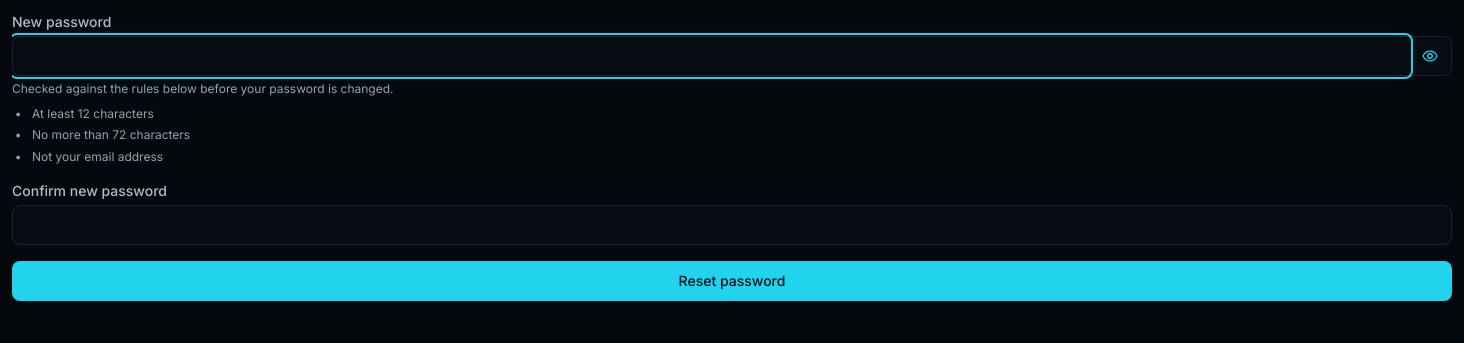
Test: a password the rules refuse › names the rule, and the existing password stays in force
Step 1. Type "short" into the password field labelled "New password" → (711, 56), box [13,37,1409,75]
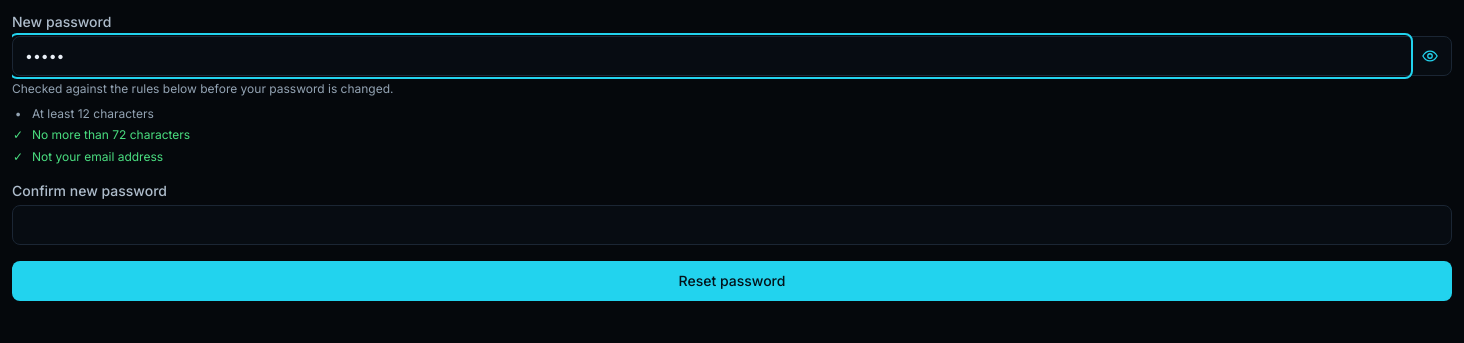
Step 2. Type "short" into the password field labelled "Confirm new password" → (732, 225), box [12,205,1452,245]
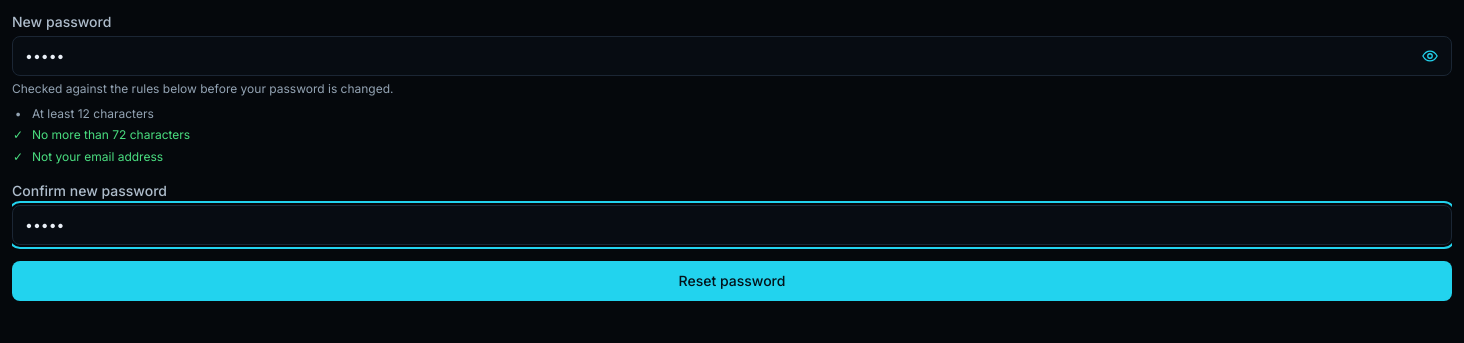
Step 3. Click the button "Reset password" → (732, 281), box [12,261,1452,301]
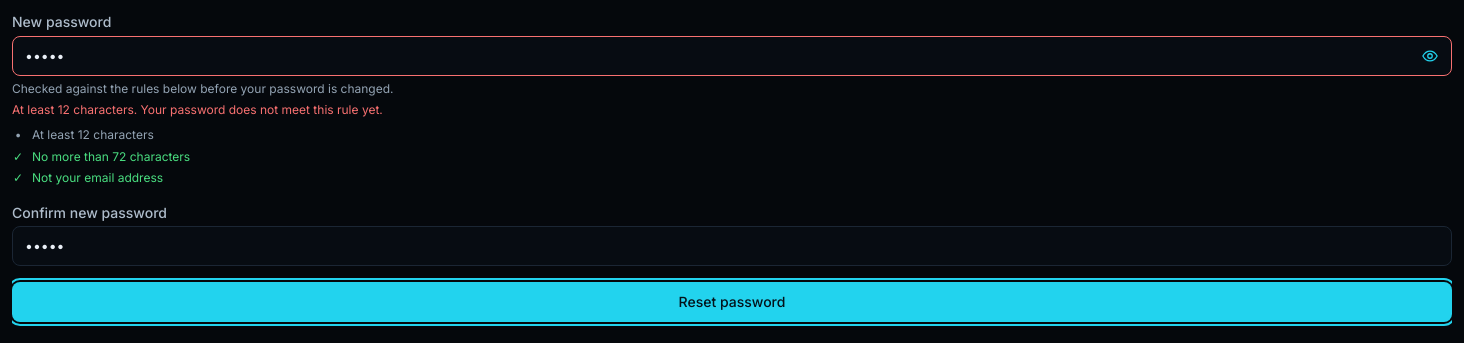
Result: the text "At least 12 characters. Your password does not meet this rule yet." is shown at [12,102,383,117]
